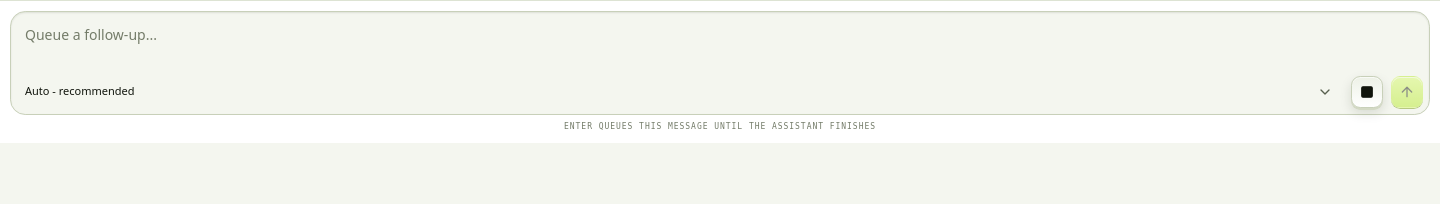
Test: AgentComposer › surfaces a failed stop instead of swallowing it
Click the button named "Stop agent" at x=1367, y=92, box x1=1351 y1=76 x2=1383 y2=108
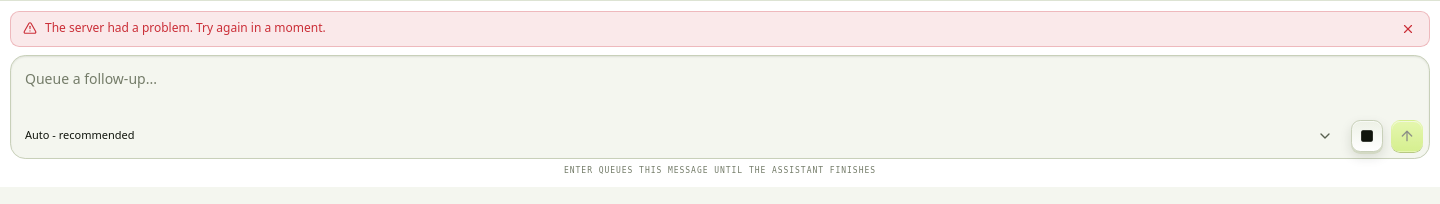
Check: the message reads "The server had a problem. Try again in a moment.", box x1=45 y1=19 x2=326 y2=36
